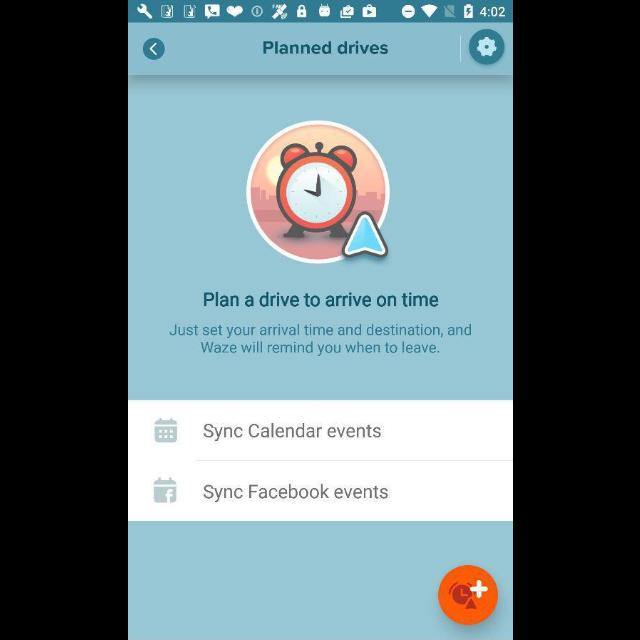button: (438, 565, 498, 625)
icon: (468, 29, 504, 65), (153, 476, 177, 504), (154, 418, 178, 442), (142, 38, 164, 62)
image: (246, 121, 390, 265)
text: (168, 324, 470, 356), (202, 292, 438, 308), (203, 422, 381, 442), (202, 483, 388, 502), (262, 41, 388, 55)
toolbar: (128, 24, 510, 76)
uppertaskbar: (128, 1, 512, 23)
